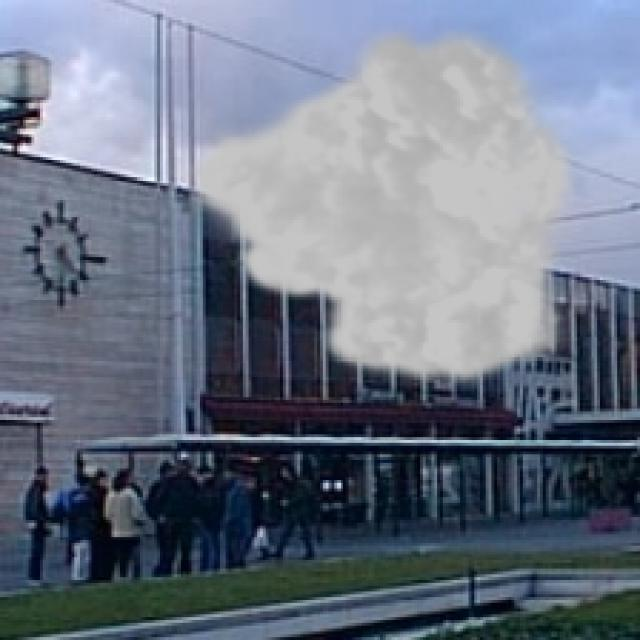Smoke: (180, 17, 580, 392)
